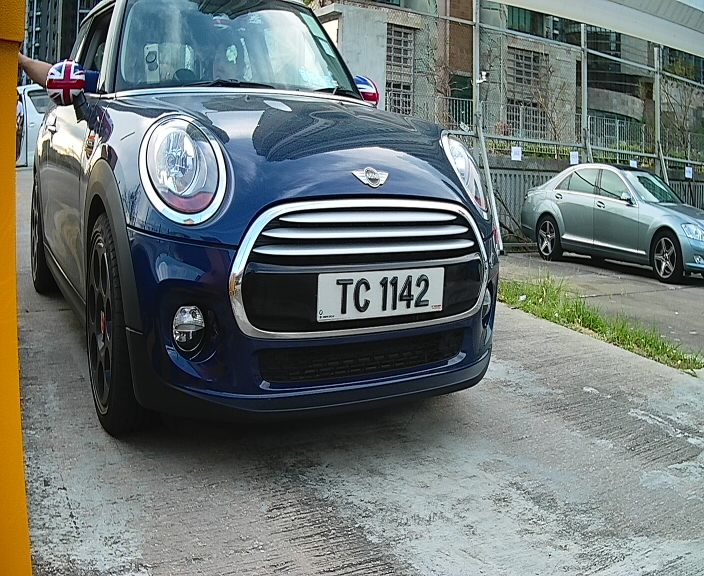Car: (50, 1, 507, 454)
License Plate: (308, 261, 455, 333)
